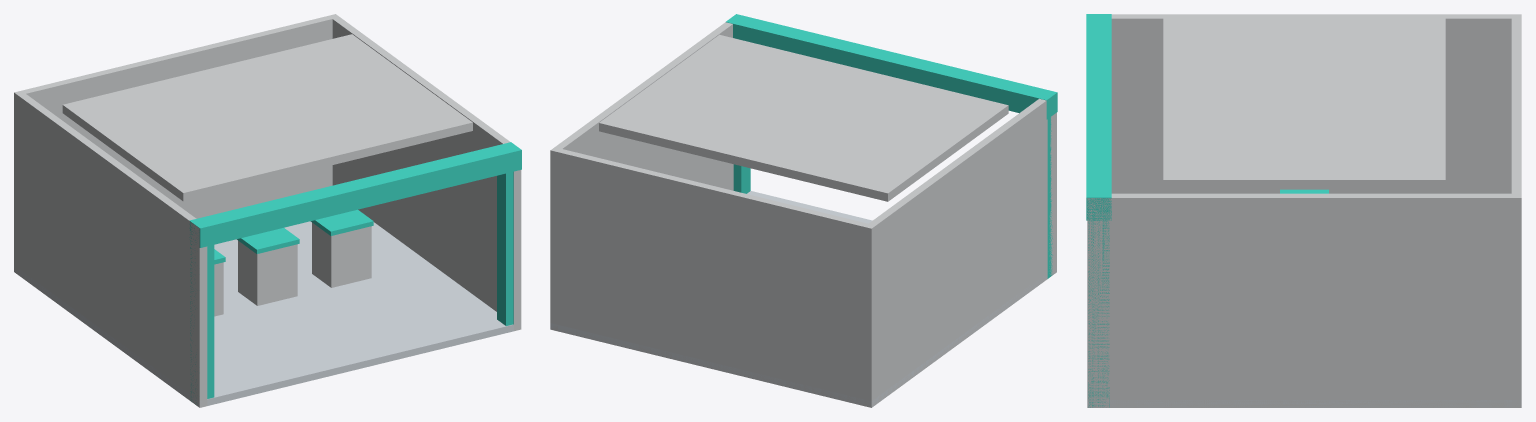
3 views of the same model, side by side, from view 1: azimuth 30°, elevation 25°; view 2: azimuth 150°, elevation 25°; view 3: azimuth 270°, elevation 25° (orthographic). The views are drawn at different scales.
Parts seen in each view (by area): view 1: Exhibition Booth Concept; view 2: Exhibition Booth Concept; view 3: Exhibition Booth Concept.
Boxes of the visible parts, x1,y1,x2,y2 form: Exhibition Booth Concept: (14, 14, 521, 407); Exhibition Booth Concept: (550, 14, 1057, 407); Exhibition Booth Concept: (1086, 14, 1521, 407).
Size of the model in its own units: 6 by 3.34 by 6.02.
